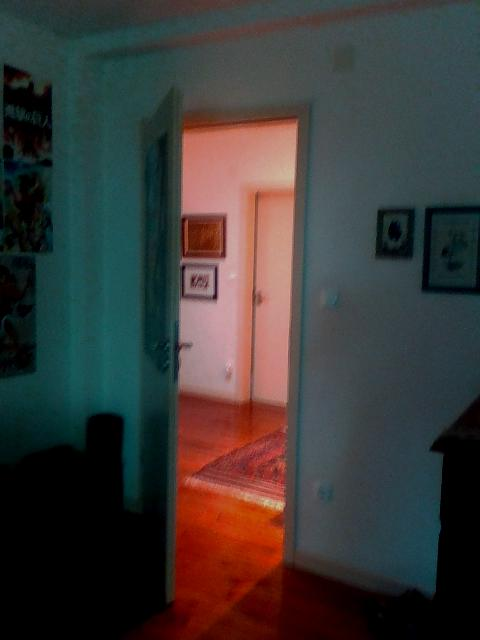semi_door: (137, 76, 313, 611)
